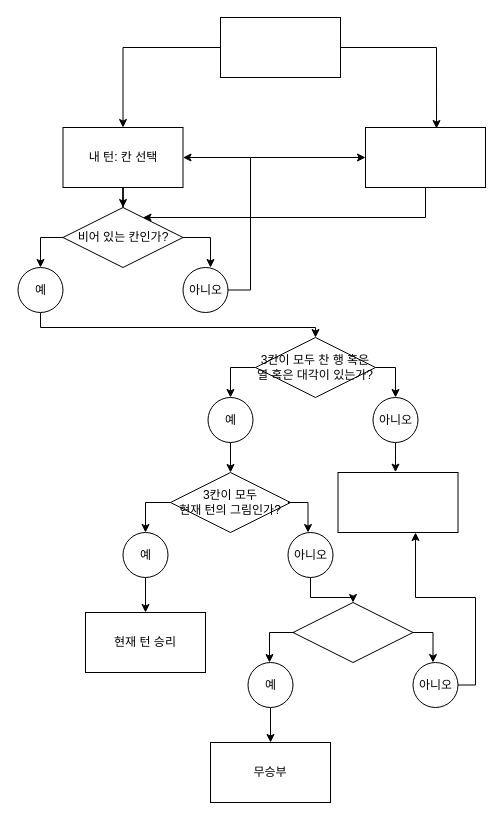
This 503x820 diagram has some shape labels left out. Each missing label, with the box of its shape:
COM 턴: 칸 선택 (자동): (364, 126, 486, 188)
모든 칸이 찼는가?: (292, 602, 413, 662)
턴 변경: (337, 472, 458, 532)
테이블: (220, 16, 340, 78)
